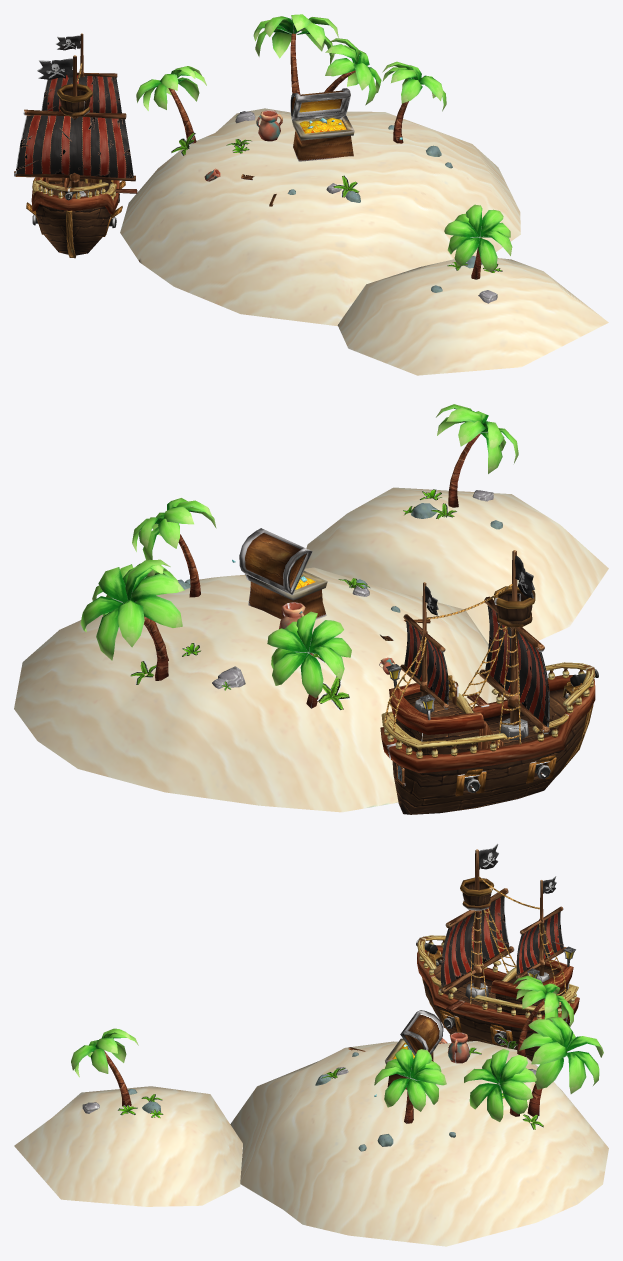
The model's file is chest island.fbx.
3 renders of one model, top to bottom at view 1: azimuth 30°, elevation 25°; view 2: azimuth 150°, elevation 25°; view 3: azimuth 270°, elevation 25°, orthographic. The views are drawn at different scales.
Parts seen in each view (by area): view 1: chest_island, chest_island_pirateship; view 2: chest_island, chest_island_pirateship; view 3: chest_island, chest_island_pirateship.
Part boxes in pixels (x1,y1,x2,y2): chest_island: [120, 14, 608, 375]; chest_island_pirateship: [14, 33, 137, 258]; chest_island: [14, 404, 608, 812]; chest_island_pirateship: [380, 550, 598, 814]; chest_island: [14, 975, 608, 1246]; chest_island_pirateship: [416, 843, 579, 1061].
Size of the model in its own units: 3560 by 4074 by 1608.
